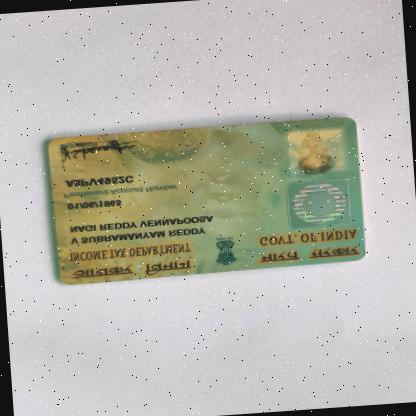pan_card: (45, 108, 373, 293)
